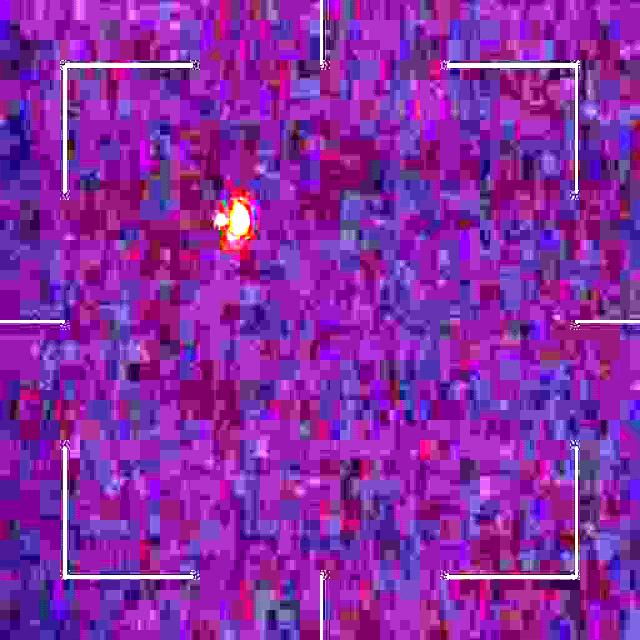bird: (208, 201, 250, 248)
